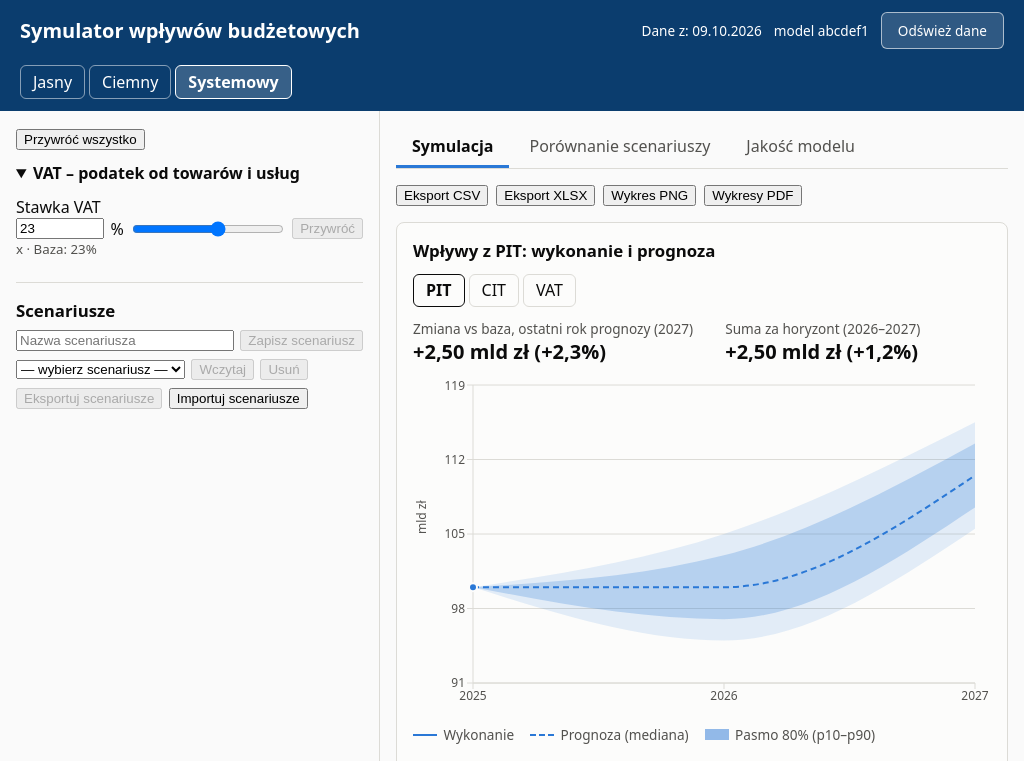
Test: I-2: top bar shows refresh button, data date and model version › in the normal state
Check: the text "Dane z: 09.10.2026" is shown, box [642,21,762,40]
Check: the text "model abcdef1" is shown, box [774,21,869,40]
Click the button "Odśwież dane". click: (942, 30)
box: [881,12,1004,49]
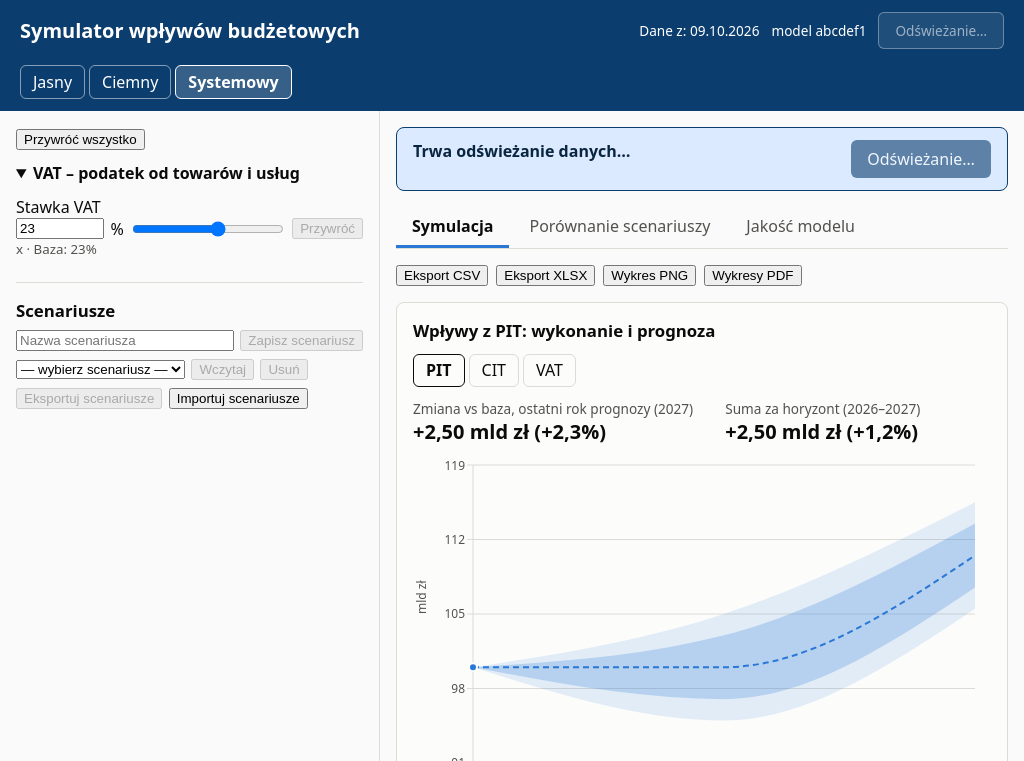
Check: the button "Odświeżanie…" next to "abcdef1" is disabled, box [878,12,1004,49]
